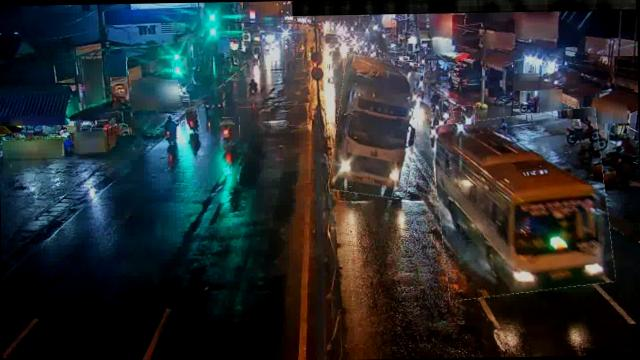Bike: (570, 129, 608, 154), (218, 117, 240, 146), (164, 114, 178, 142), (186, 107, 200, 133), (438, 99, 454, 121), (431, 112, 447, 132), (461, 105, 475, 124), (416, 78, 428, 100), (432, 88, 442, 112), (248, 78, 260, 96)
Bus: (433, 110, 612, 297)
Truck: (332, 54, 422, 197)
